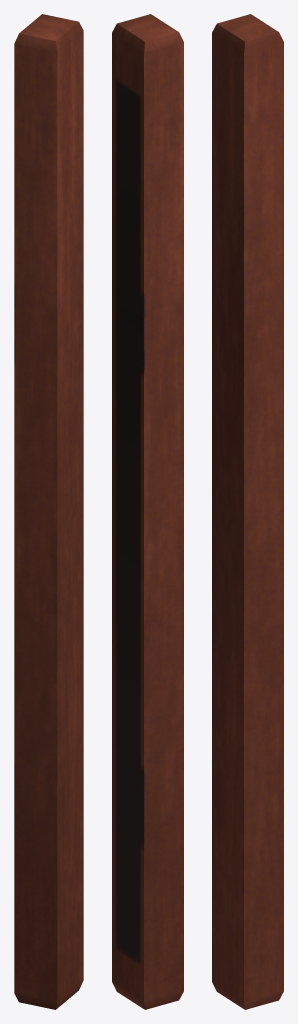
The model's file is SM_Door_Support.fbx.
The picture shows the model from 3 angles, left to right: view 1: azimuth 90°, elevation 25°; view 2: azimuth 150°, elevation 25°; view 3: azimuth 330°, elevation 25°; orthographic projection.
Parts seen in each view (by area): view 1: SM_Door_Support; view 2: SM_Door_Support; view 3: SM_Door_Support.
Part boxes in pixels (x1,y1,x2,y2): SM_Door_Support: [14, 14, 83, 1009]; SM_Door_Support: [112, 14, 183, 1009]; SM_Door_Support: [212, 14, 283, 1009].
Bounding box in the file's own units: 9.31 × 8.76 × 136.
Materials: 1 (1 with a texture image).
